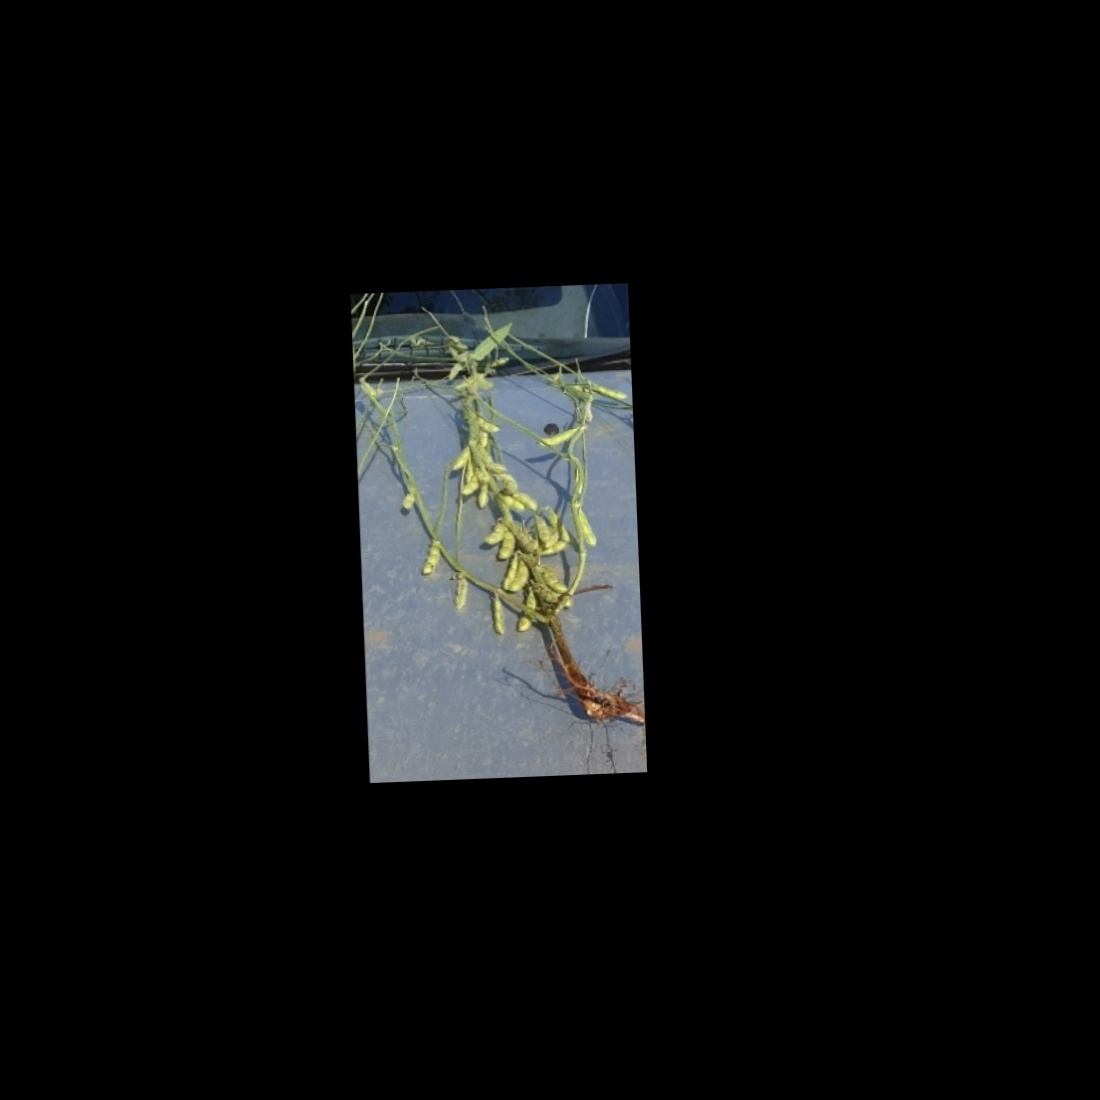pod: (574, 505, 601, 549), (418, 538, 445, 578), (535, 428, 583, 448), (489, 589, 508, 636), (492, 527, 520, 558), (449, 573, 470, 609), (480, 519, 509, 544)
soy: (359, 314, 639, 744)
